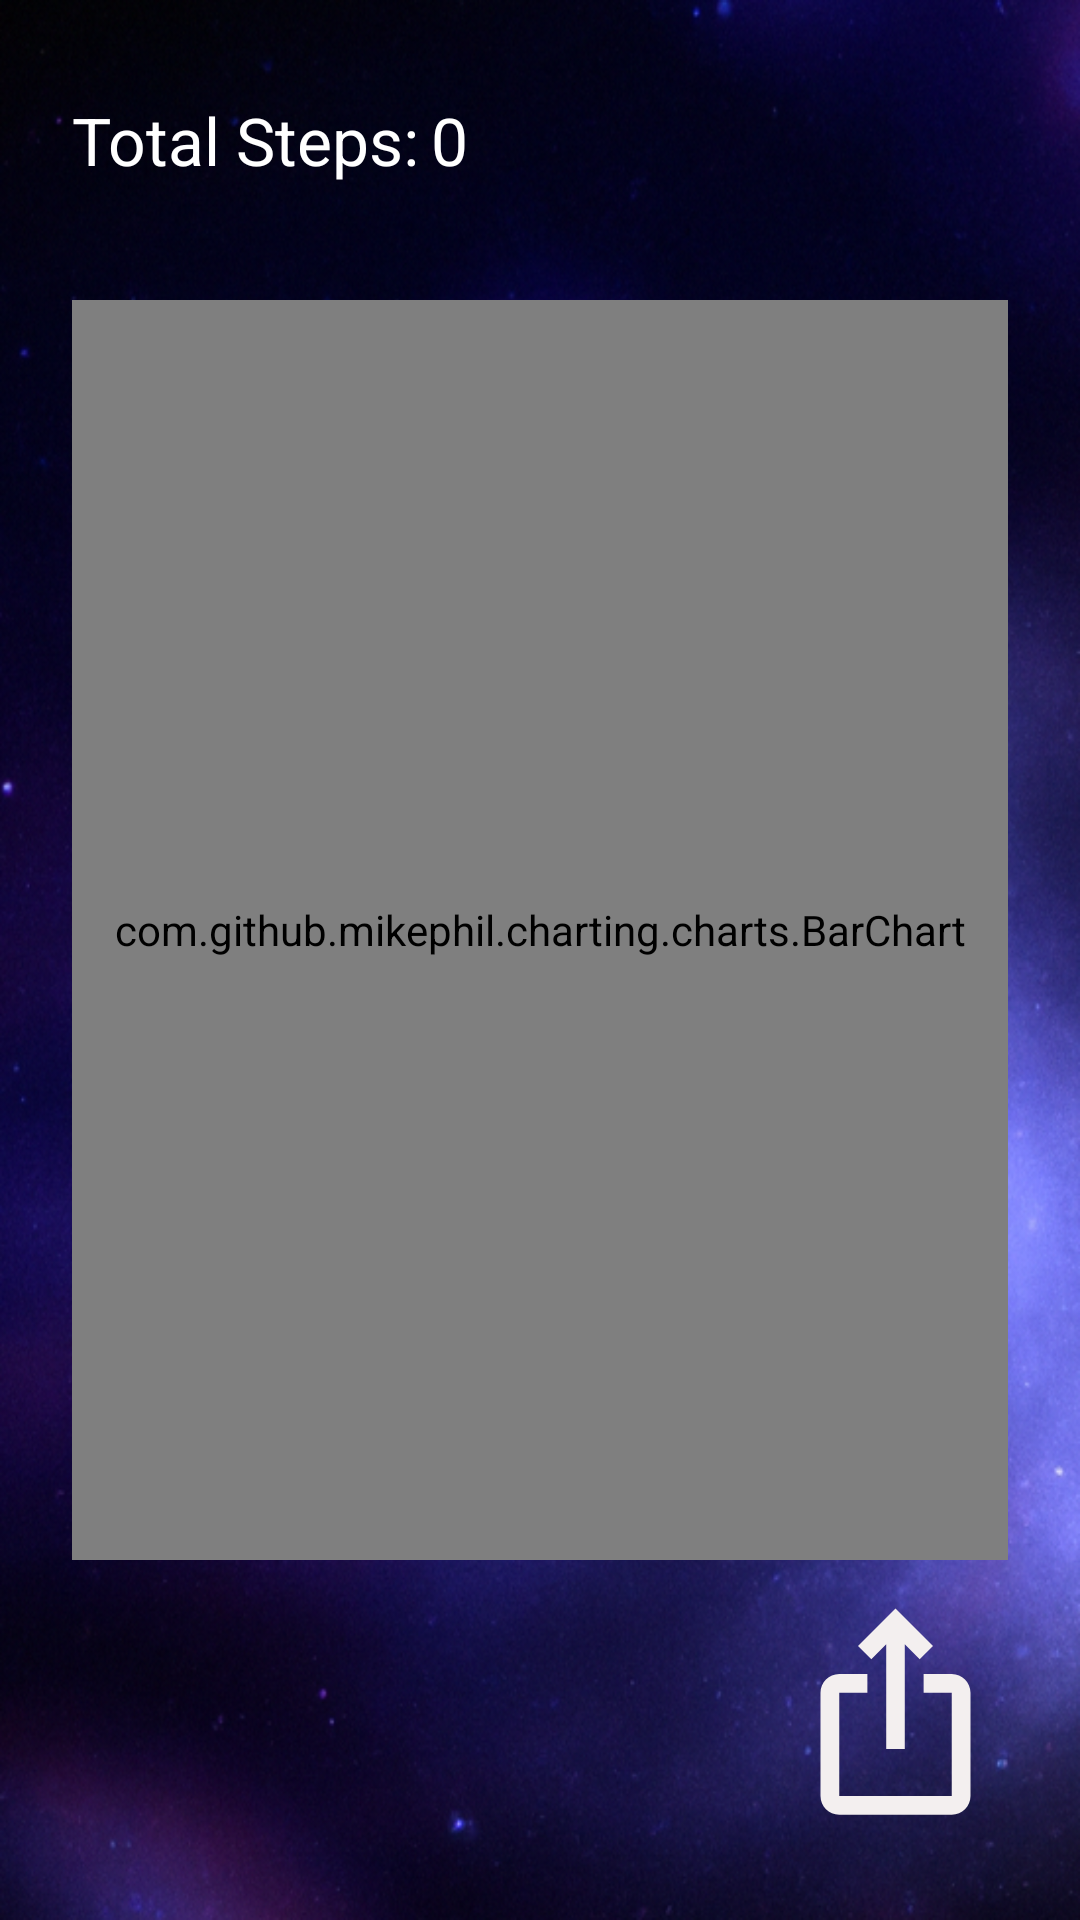

Where to tap for icons on this 1080x1920 app screen, as point (x, y):
share: point (895, 1711)
